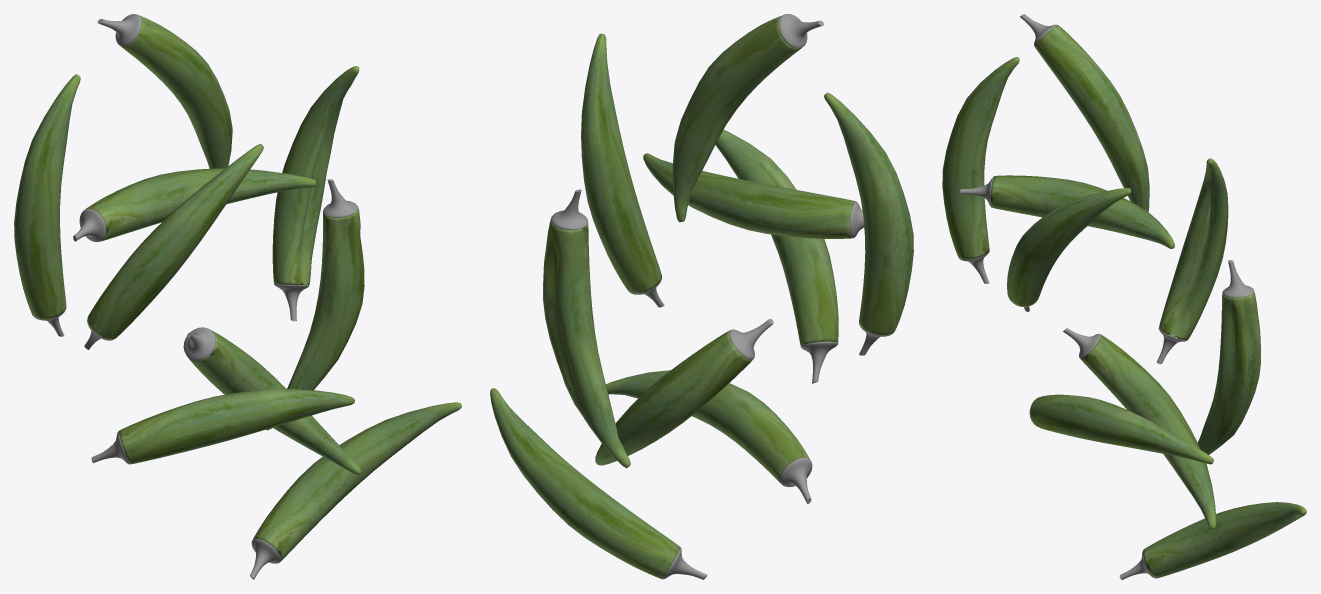
The picture shows the model from 3 angles, left to right: view 1: azimuth 30°, elevation 25°; view 2: azimuth 150°, elevation 25°; view 3: azimuth 330°, elevation 25°; orthographic projection. The views are drawn at different scales.
Visible parts, largest first — view 1: Model_133_Okra_06, Model_133_Okra_08, Model_133_Okra_15, Model_133_Okra_17, Model_133_Okra_04, Model_133_Okra_13, Model_133_Okra_02, Model_133_Okra_01, Model_133_Okra_11, Model_133_Okra_10, Model_133_Okra_03, Model_133_Okra_00 (+2 smaller); view 2: Model_133_Okra_17, Model_133_Okra_04, Model_133_Okra_06, Model_133_Okra_13, Model_133_Okra_02, Model_133_Okra_01, Model_133_Okra_08, Model_133_Okra_11, Model_133_Okra_15, Model_133_Okra_03, Model_133_Okra_14, Model_133_Okra_12 (+2 smaller); view 3: Model_133_Okra_02, Model_133_Okra_06, Model_133_Okra_04, Model_133_Okra_11, Model_133_Okra_13, Model_133_Okra_15, Model_133_Okra_17, Model_133_Okra_01, Model_133_Okra_08, Model_133_Okra_12, Model_133_Okra_10.
Boxes of the visible parts, x1,y1,x2,y2 form: Model_133_Okra_06: (14, 74, 80, 319); Model_133_Okra_08: (87, 144, 263, 340); Model_133_Okra_15: (118, 389, 354, 464); Model_133_Okra_17: (253, 402, 461, 560); Model_133_Okra_04: (272, 66, 359, 285); Model_133_Okra_13: (266, 208, 364, 430); Model_133_Okra_02: (120, 15, 232, 168); Model_133_Okra_01: (85, 168, 316, 241); Model_133_Okra_11: (186, 329, 361, 475); Model_133_Okra_10: (183, 327, 215, 360); Model_133_Okra_03: (97, 14, 141, 46); Model_133_Okra_00: (73, 208, 106, 242); Model_133_Okra_17: (490, 388, 680, 578); Model_133_Okra_04: (581, 33, 661, 293); Model_133_Okra_06: (824, 92, 913, 335); Model_133_Okra_13: (543, 219, 630, 468); Model_133_Okra_02: (672, 15, 801, 222); Model_133_Okra_01: (643, 153, 855, 238); Model_133_Okra_08: (715, 129, 838, 345); Model_133_Okra_11: (595, 330, 752, 465); Model_133_Okra_15: (606, 370, 809, 483); Model_133_Okra_03: (779, 14, 823, 48); Model_133_Okra_14: (780, 457, 812, 503); Model_133_Okra_12: (551, 189, 588, 229); Model_133_Okra_02: (1034, 25, 1149, 211); Model_133_Okra_06: (942, 57, 1019, 259); Model_133_Okra_04: (1159, 158, 1228, 340); Model_133_Okra_11: (1080, 334, 1216, 530); Model_133_Okra_13: (1198, 292, 1260, 454); Model_133_Okra_15: (1030, 394, 1213, 464); Model_133_Okra_17: (1143, 502, 1306, 578); Model_133_Okra_01: (990, 175, 1174, 248); Model_133_Okra_08: (1007, 188, 1131, 306); Model_133_Okra_12: (1222, 260, 1254, 297); Model_133_Okra_10: (1063, 328, 1100, 358).
Bounding box in the file's own units: 76.41 × 100 × 14.23.
Materials: 2 (1 with a texture image).
